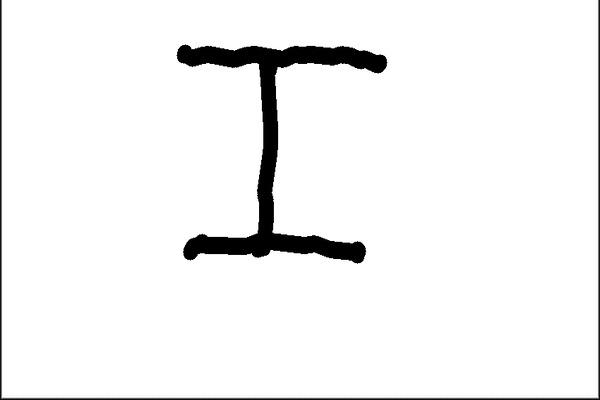i: (158, 29, 398, 273)
